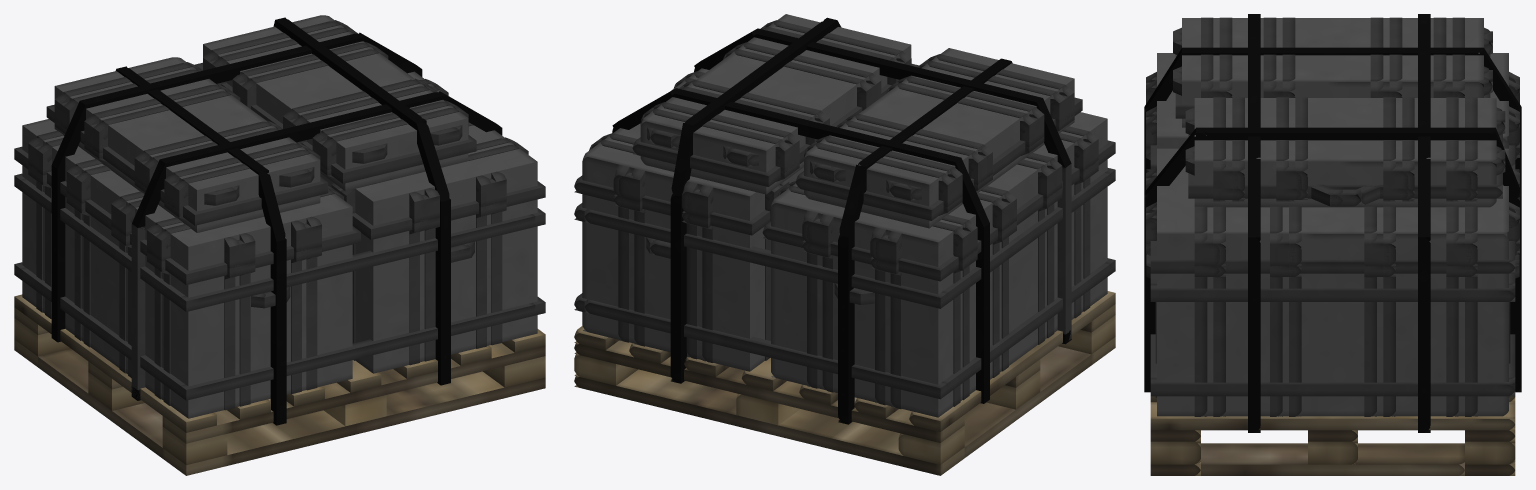
The model's file is care_package.obj.
3 views of the same model, side by side, from view 1: azimuth 30°, elevation 25°; view 2: azimuth 150°, elevation 25°; view 3: azimuth 270°, elevation 25° (orthographic). The views are drawn at different scales.
Parts seen in each view (by area): view 1: nx, qs, tv, wS, tk, tl, xf, wW, tm, ta, xs, ny (+53 smaller); view 2: nx, qs, tv, wS, ti, th, wU, xh, tm, ta, ny, xo (+58 smaller); view 3: qs, wS, tv, tn, tb, wX, xe, xD, qt, xj, xi, xv (+53 smaller).
Part boxes in pixels (x1,y1,x2,y2): nx: [22, 119, 352, 418]; qs: [320, 71, 537, 373]; tv: [54, 57, 320, 232]; wS: [203, 15, 468, 191]; tk: [162, 371, 545, 475]; tl: [162, 343, 545, 443]; xf: [180, 214, 535, 311]; wW: [180, 302, 535, 400]; tm: [38, 348, 162, 458]; ta: [14, 294, 216, 432]; xs: [270, 237, 286, 424]; ny: [14, 146, 360, 284]; nx: [771, 112, 1107, 417]; qs: [582, 68, 803, 371]; tv: [804, 48, 1074, 228]; wS: [640, 14, 911, 194]; ti: [574, 369, 964, 475]; th: [574, 340, 964, 442]; wU: [584, 299, 946, 399]; xh: [584, 209, 946, 308]; tm: [964, 346, 1091, 457]; ta: [909, 291, 1115, 431]; ny: [762, 140, 1115, 281]; xo: [755, 29, 1042, 107]; qs: [1157, 148, 1508, 416]; wS: [1194, 98, 1496, 207]; tv: [1182, 18, 1483, 127]; tn: [1201, 443, 1464, 475]; tb: [1150, 403, 1515, 430]; wX: [1150, 379, 1515, 396]; xe: [1150, 285, 1515, 301]; xD: [1206, 127, 1495, 140]; qt: [1150, 232, 1515, 273]; xj: [1248, 237, 1260, 431]; xi: [1418, 237, 1430, 431]; xv: [1182, 47, 1483, 55].
Size of the model in its own units: 2.23 by 1.6 by 1.88.
1 material, 1 textured.
